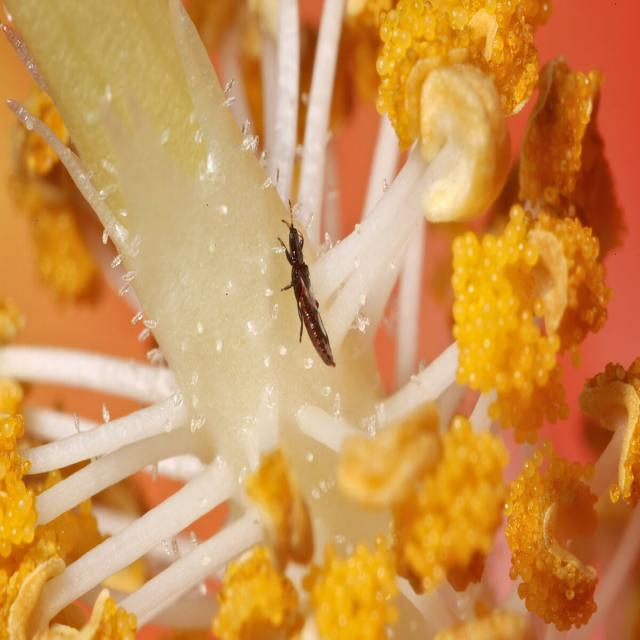Thrip-Adult-: (272, 195, 340, 368)
